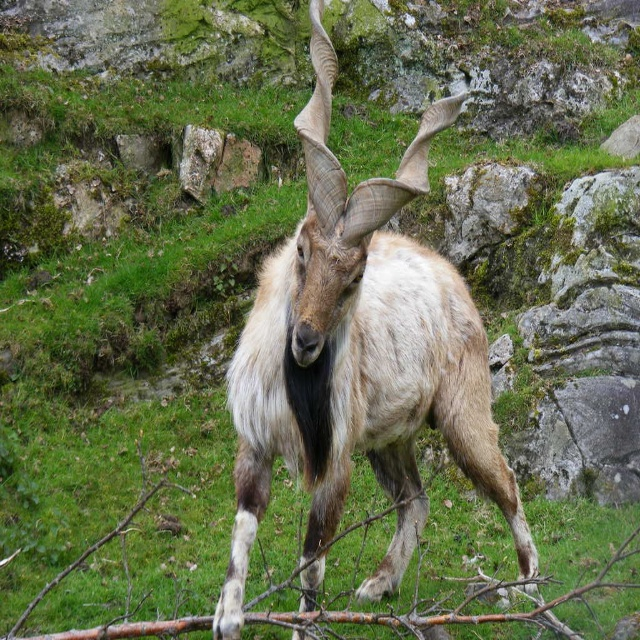Goat: (212, 0, 539, 640)
